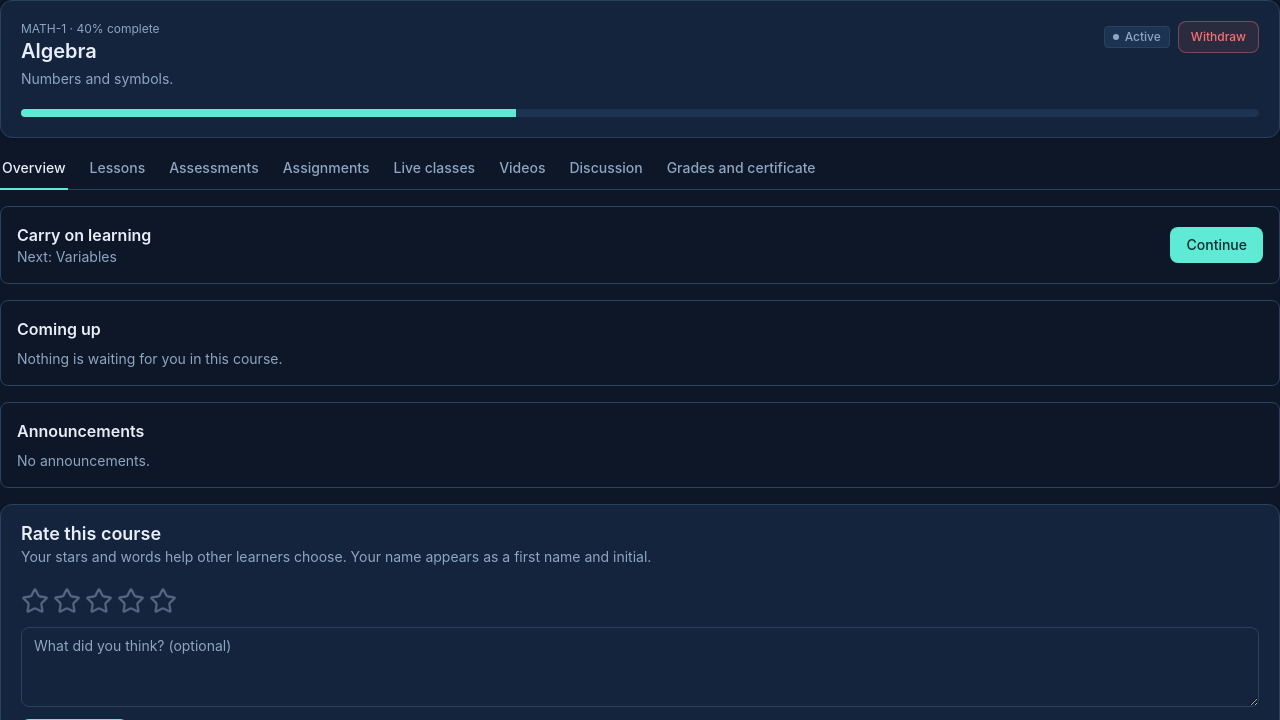
the overview › offers to carry on and goes to the lessons
Expected: the text "Next: Variables" is shown, [17,248,117,265]
Click the button "Continue" at (1217, 245), box [1170,227,1263,263]
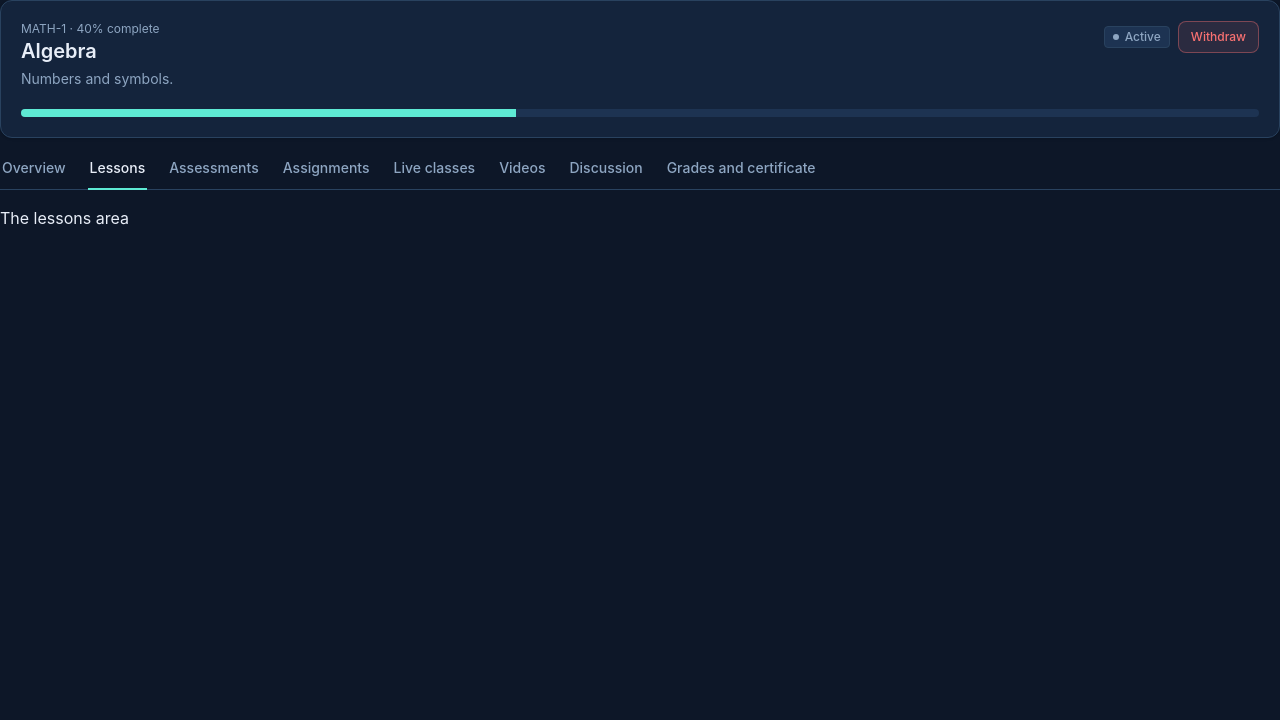
Now the text "The lessons area" is shown, box [0,208,129,228]
